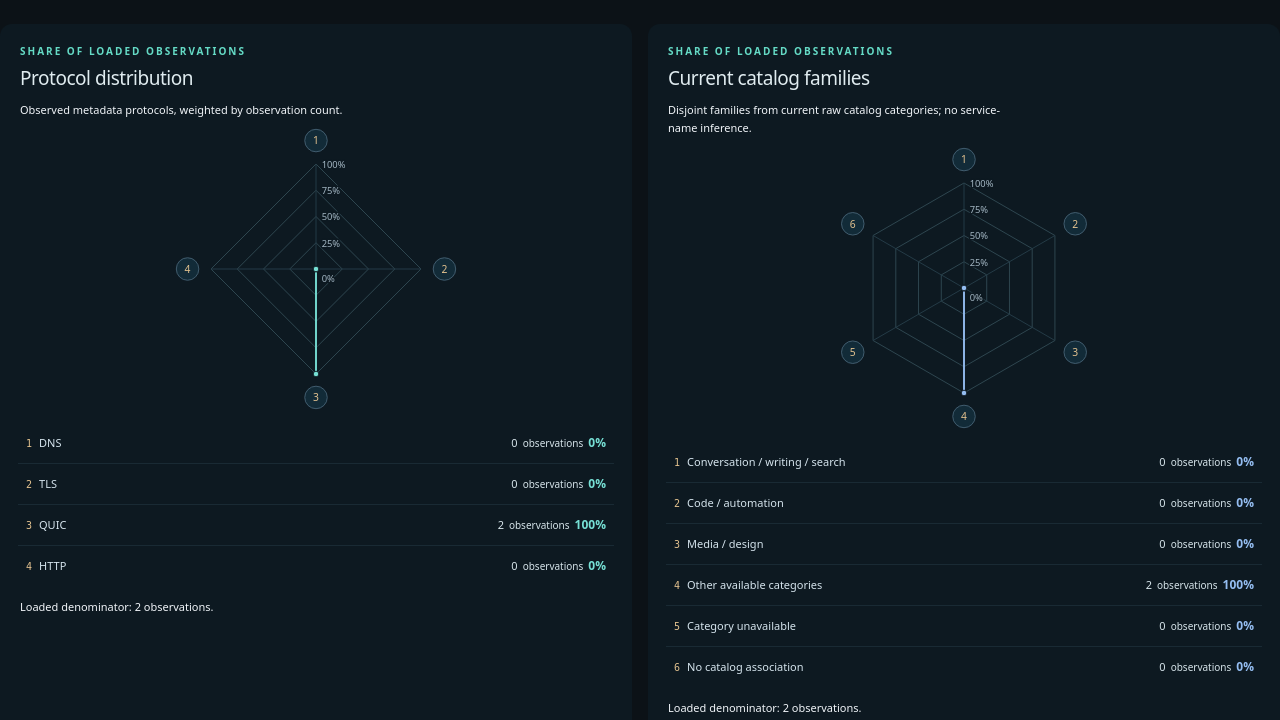
accessible loaded observation radars › makes real zero axes selectable and displays an explicit empty group without changing values
Step 1. Click the button "1 DNS 0 observations 0%" → (553, 443), box left=18, top=423, right=614, bottom=463
(page scrolled)
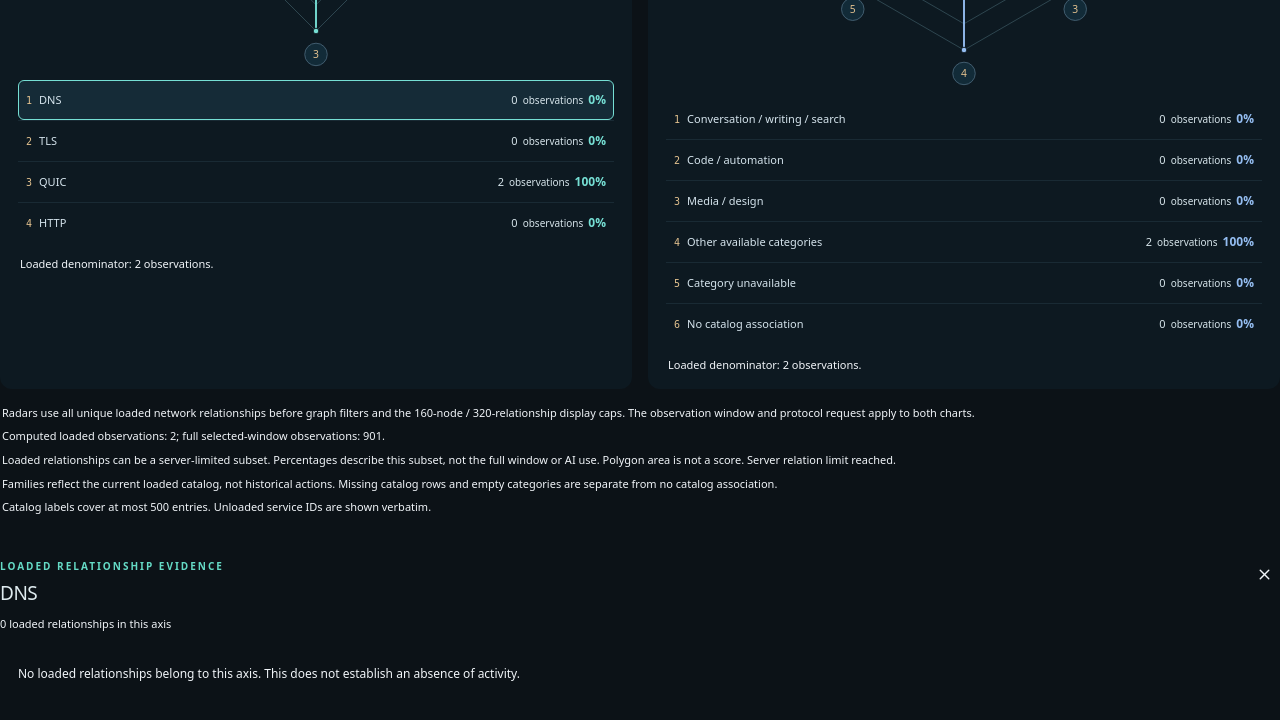
expect the text "No loaded relationships belong to this axis. This does not establish an absence of activity." is shown: met, box left=18, top=665, right=520, bottom=682
